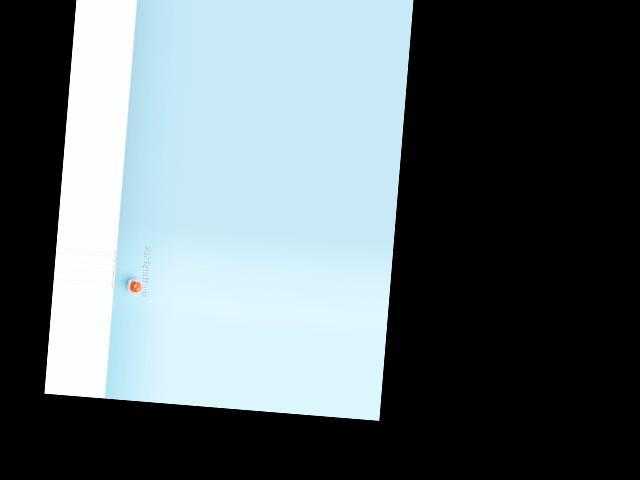tomato: (129, 280, 141, 292)
